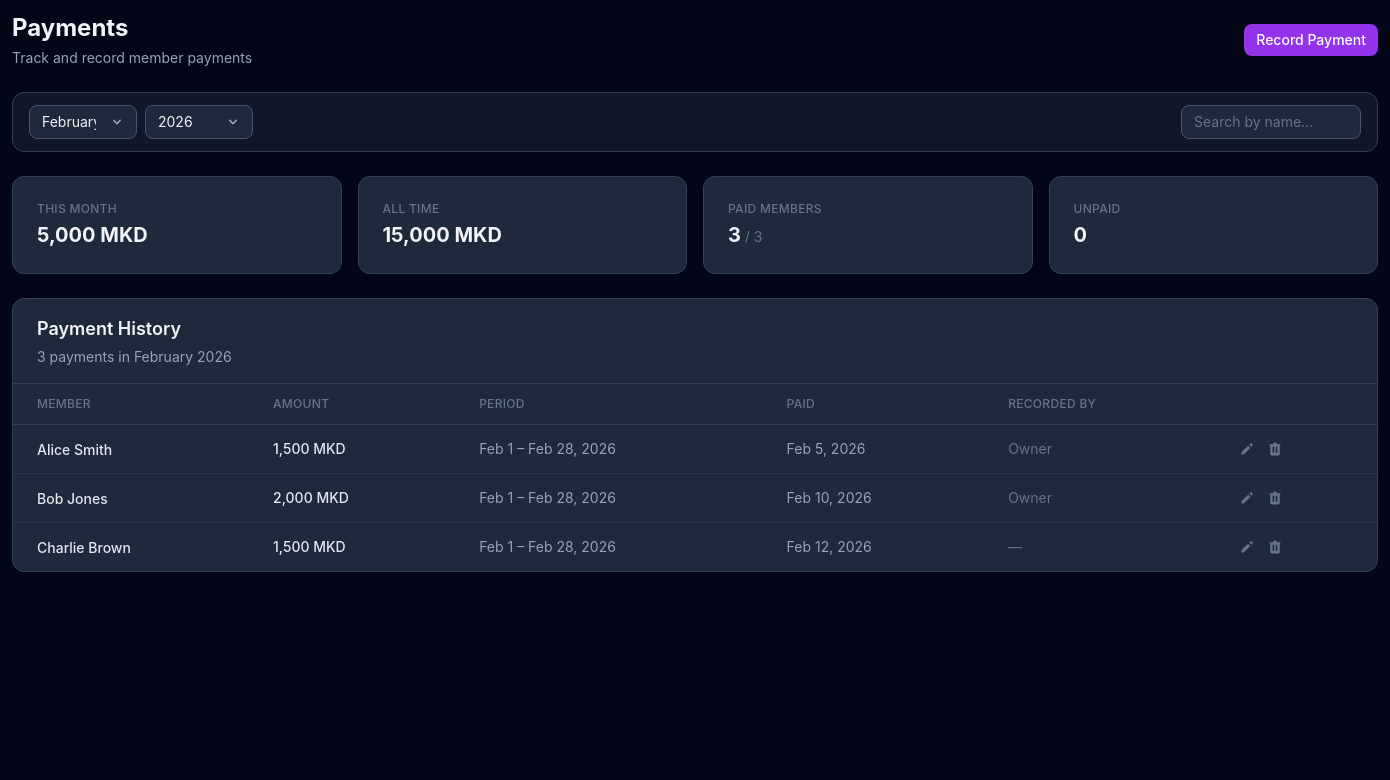
Test: PaymentsClient › hasActiveFilter logic › hides Clear button after clearing search when month/year match current
The width and height of the screenshot is (1390, 780).
Type "test" into the field named "Search payments by member name" at (1271, 122), box [1181,105,1361,139]
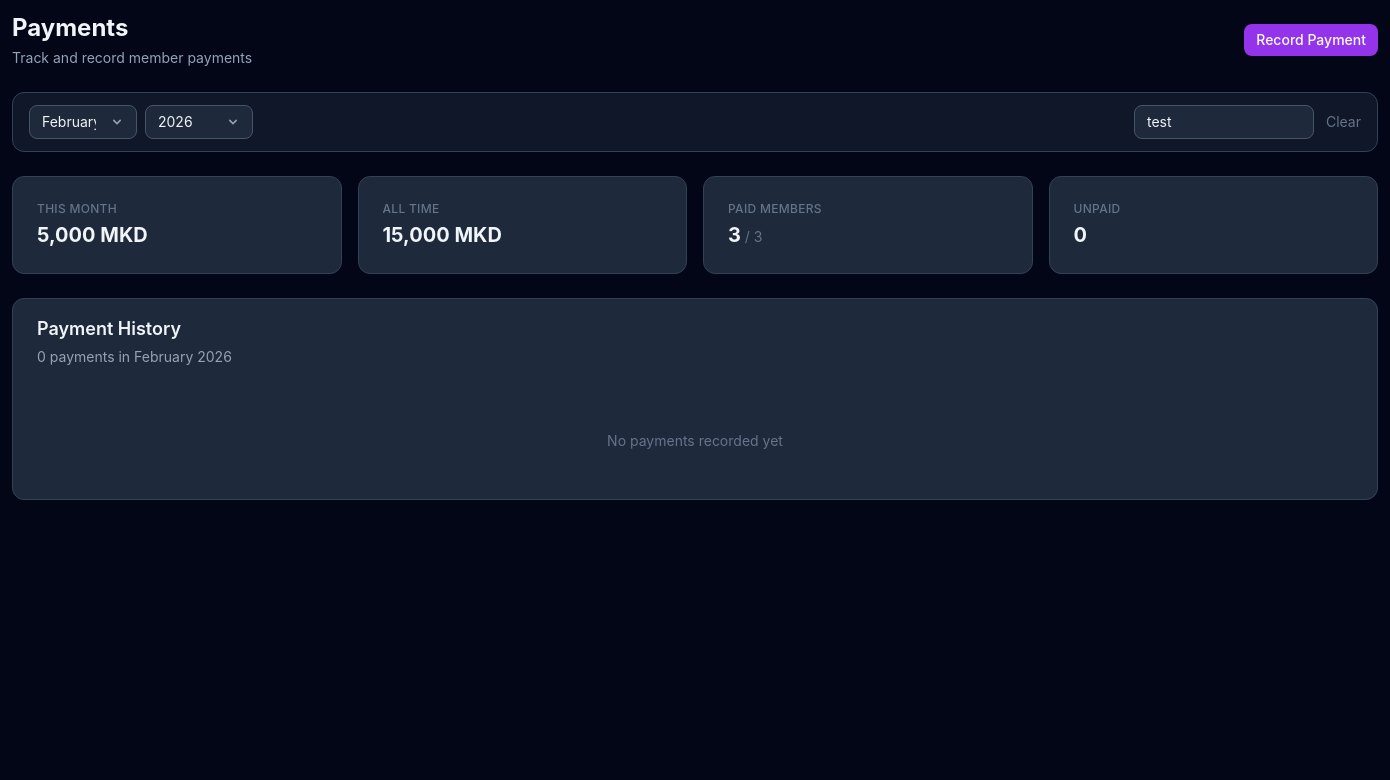
Check: the button "Clear" is shown
Note: Click Clear
Click the button "Clear" at (1343, 122), box [1326,112,1361,132]
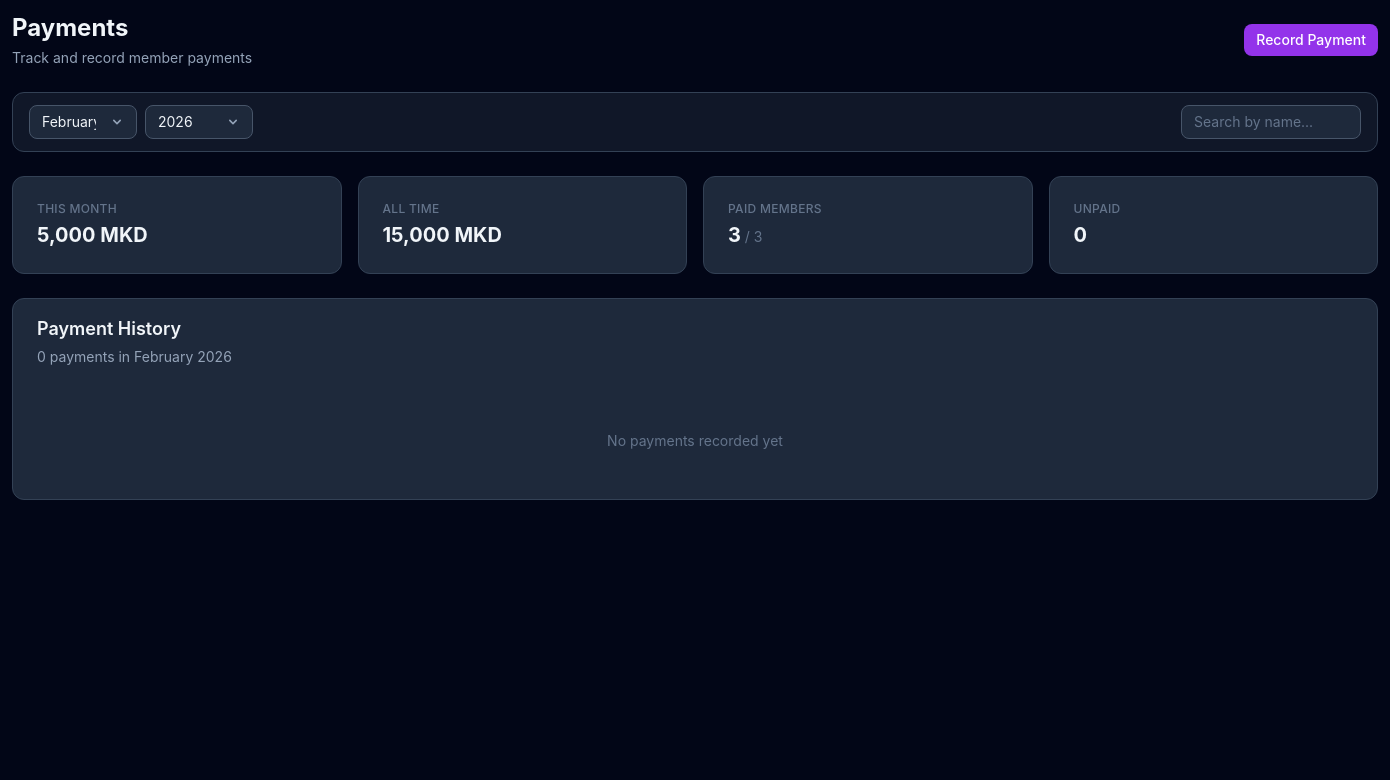
Check: the button "Clear" is gone
